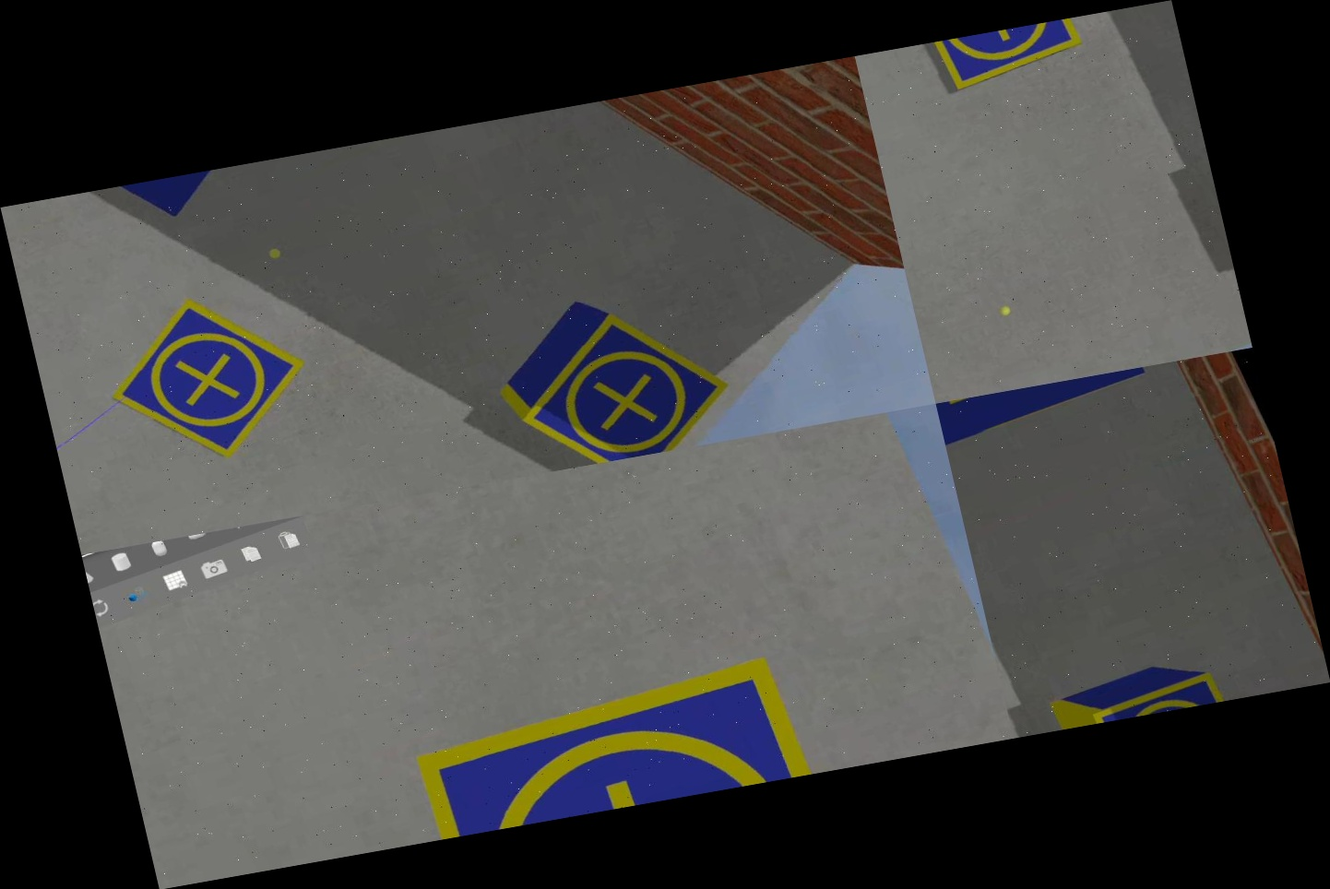large_base: (21, 137, 405, 254), (936, 366, 1158, 449)
small_base: (354, 612, 871, 848), (81, 268, 340, 492), (491, 285, 752, 476), (915, 17, 1088, 97), (1084, 665, 1234, 724)
